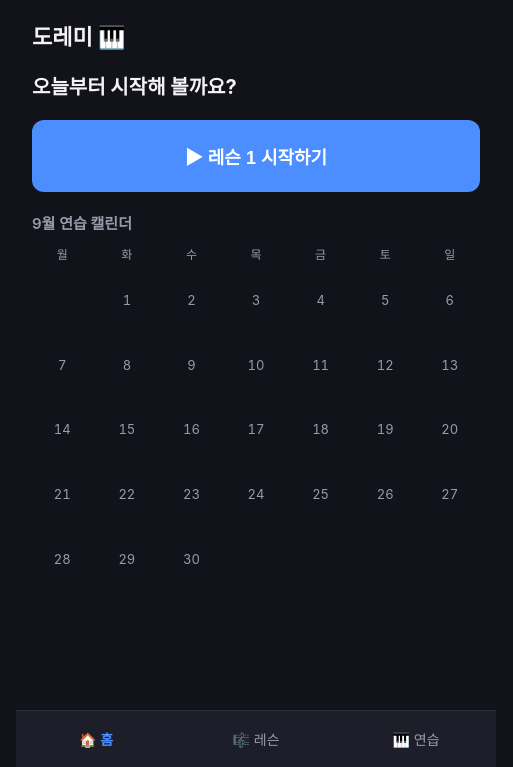
Test case: App 셸 › 레슨을 열면 탭바 없이 전체 화면으로 전환된다
Click the tab "🎼 레슨" at (256, 739), box [176, 711, 336, 766]
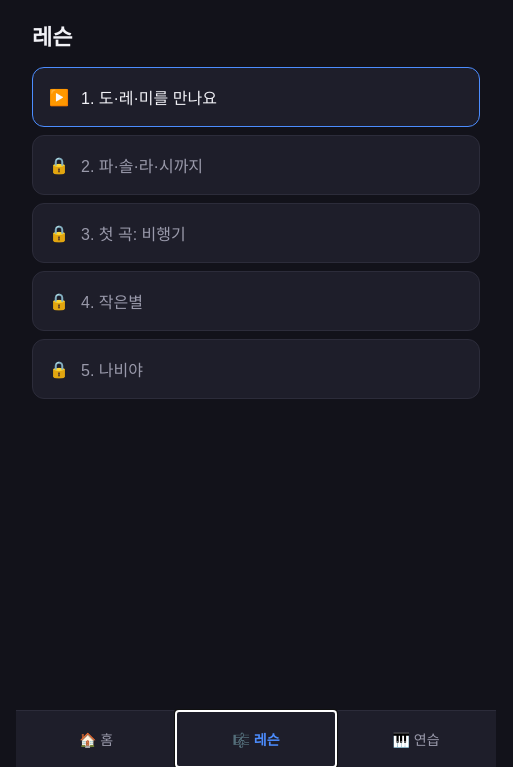
Click the button "▶️ 1. 도·레·미를 만나요" at (158, 98), box [32, 67, 480, 127]
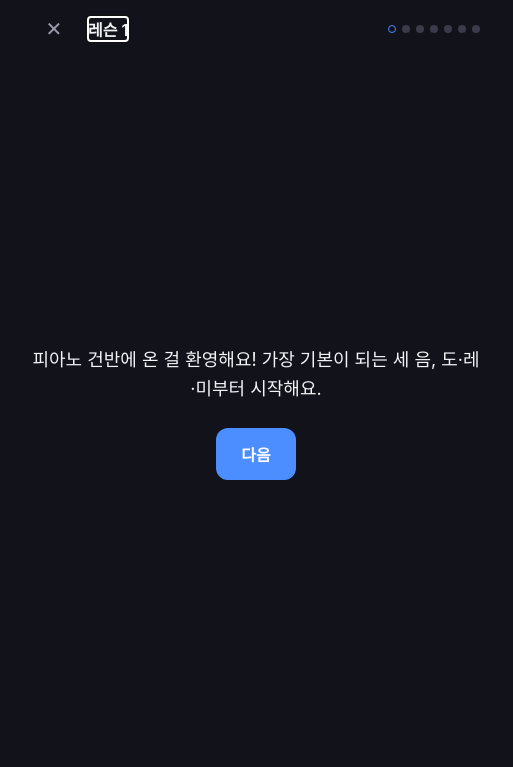
expect the heading "레슨 1" is shown: met, box [88, 17, 128, 41]
